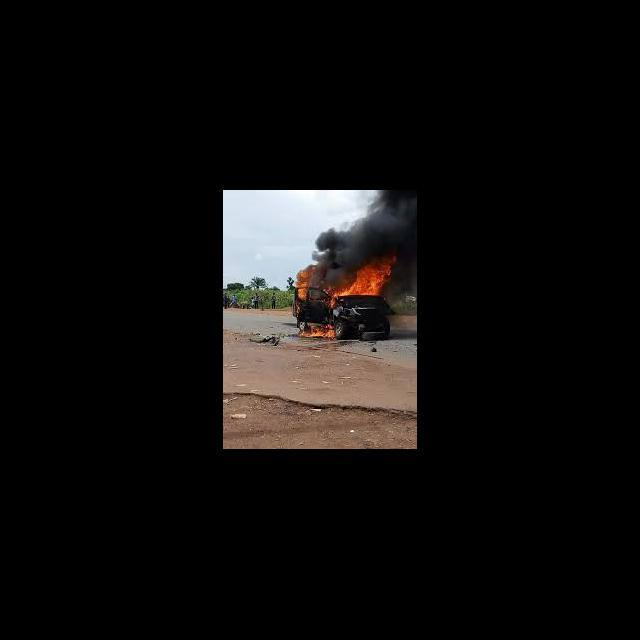Fire: (342, 253, 396, 298), (300, 321, 336, 342), (294, 270, 310, 300), (324, 285, 340, 309)
Smoke: (314, 190, 417, 253), (397, 254, 416, 298), (312, 255, 340, 283)
